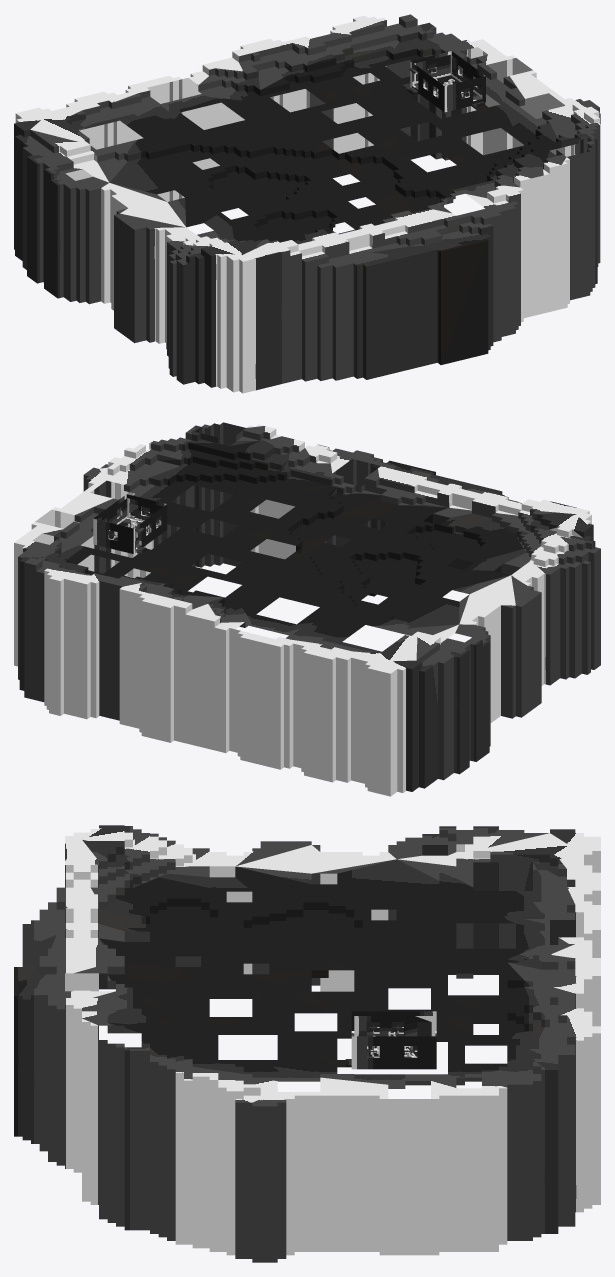
Rendered from Code_campaign3_colider_nav_mesh_2.fbx.
3 renders of one model, top to bottom at view 1: azimuth 30°, elevation 25°; view 2: azimuth 150°, elevation 25°; view 3: azimuth 270°, elevation 25°, orthographic. The views are drawn at different scales.
Parts seen in each view (by area): view 1: Code_campaign3_colider_nav_mesh_2; view 2: Code_campaign3_colider_nav_mesh_2; view 3: Code_campaign3_colider_nav_mesh_2.
Part boxes in pixels (x1=…): Code_campaign3_colider_nav_mesh_2: x1=14, y1=14, x2=600, y2=393; Code_campaign3_colider_nav_mesh_2: x1=14, y1=422, x2=600, y2=796; Code_campaign3_colider_nav_mesh_2: x1=14, y1=825, x2=600, y2=1262.
Size of the model in its own units: 80 by 23.52 by 69.
